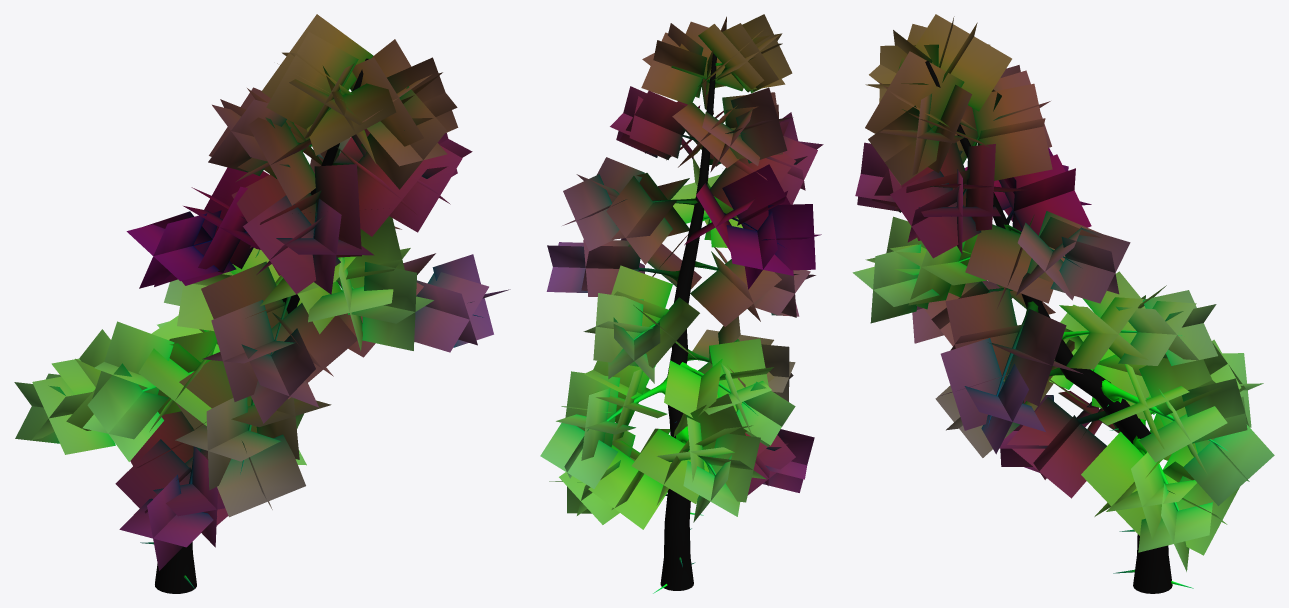
Rendered from URP_P7_Tree_5_LOD_1.fbx.
3 views of the same model, side by side, from view 1: azimuth 30°, elevation 25°; view 2: azimuth 150°, elevation 25°; view 3: azimuth 270°, elevation 25° (orthographic). The views are drawn at different scales.
Parts seen in each view (by area): view 1: Tree_5_LOD_1; view 2: Tree_5_LOD_1; view 3: Tree_5_LOD_1.
Boxes of the visible parts, <box> form: Tree_5_LOD_1: <box>14,14,510,593</box>; Tree_5_LOD_1: <box>540,14,823,593</box>; Tree_5_LOD_1: <box>852,14,1274,593</box>.
Size of the model in its own units: 294 by 489 by 320.
